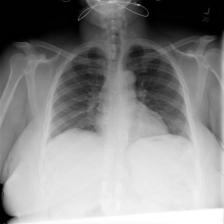normal: (39, 39, 196, 151)
